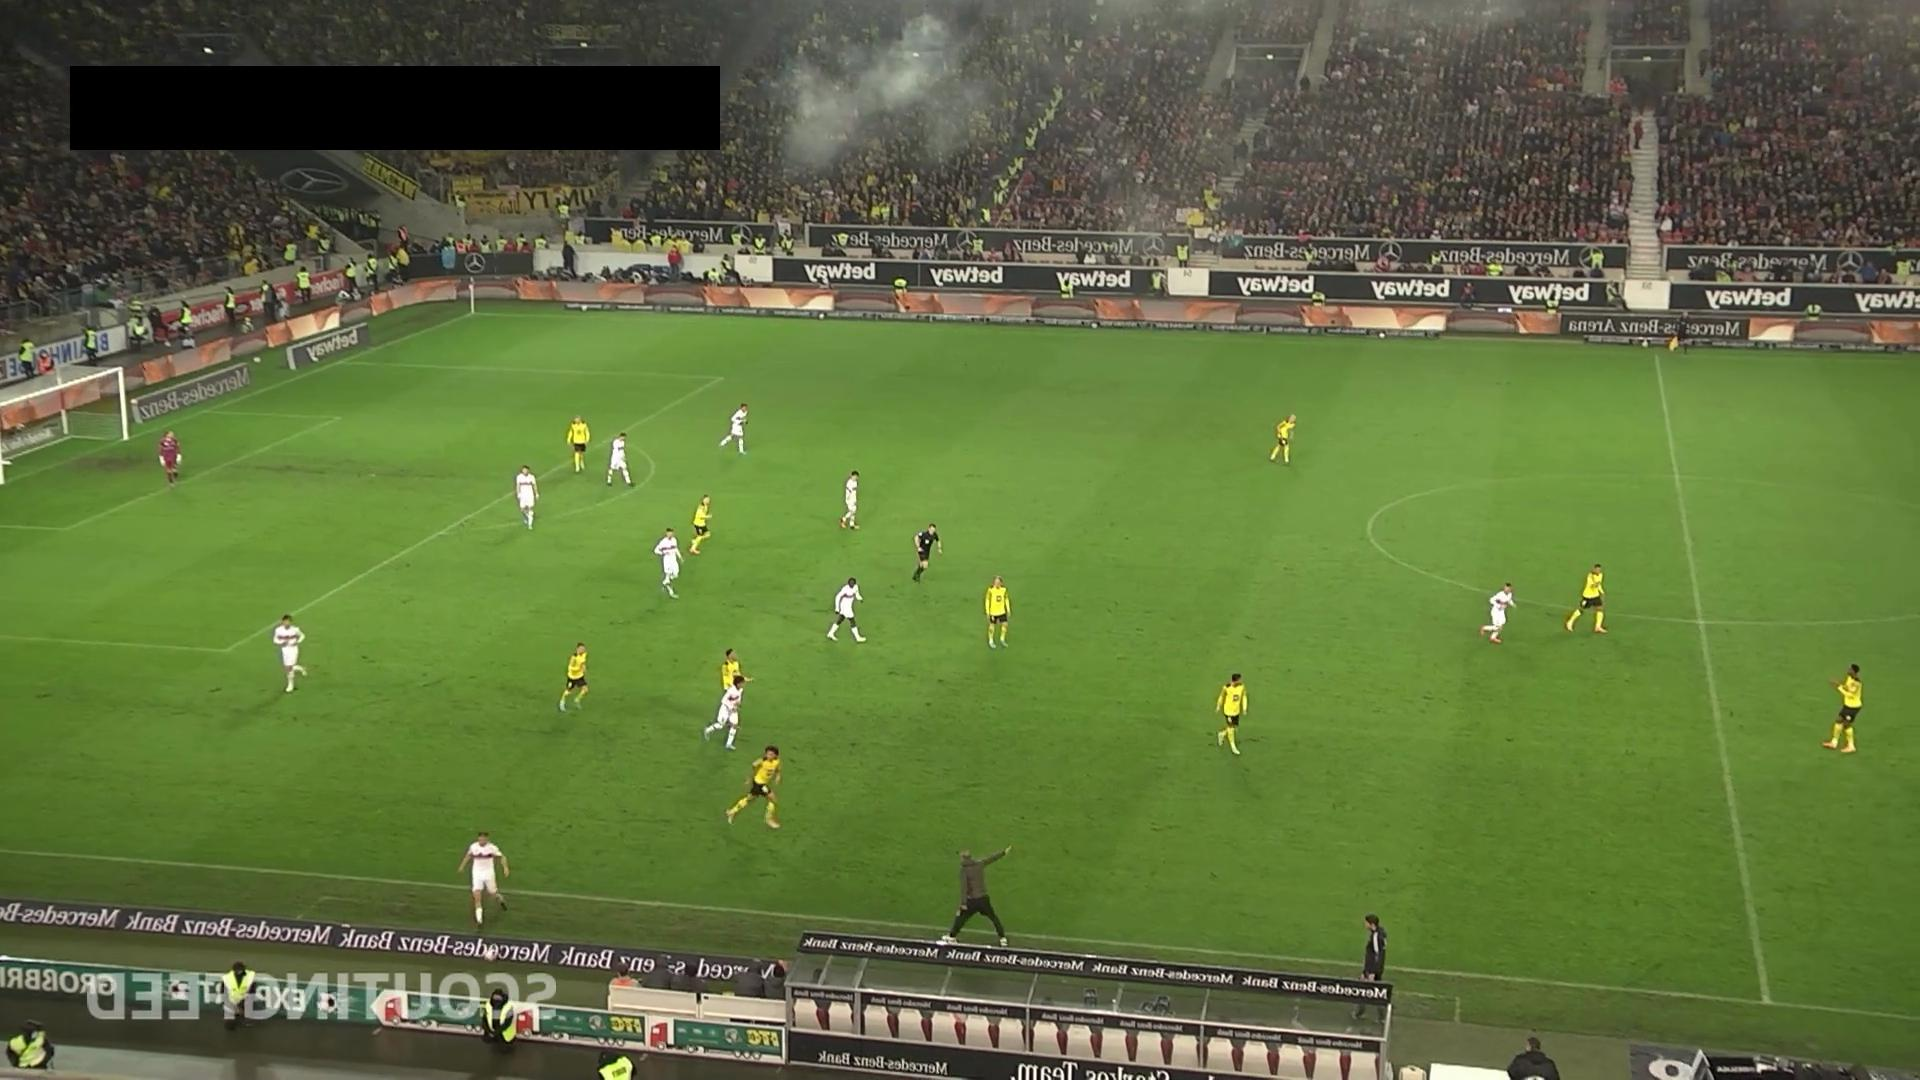goalkeeper: (158, 428, 182, 486)
player: (456, 831, 508, 933), (724, 744, 782, 829), (1821, 662, 1863, 753), (701, 674, 751, 750), (1564, 563, 1609, 634), (1213, 672, 1249, 755), (273, 613, 307, 693), (826, 576, 866, 643), (558, 641, 590, 714), (1480, 581, 1517, 644), (654, 526, 683, 600), (984, 575, 1012, 649), (719, 402, 750, 455), (515, 464, 539, 530), (606, 431, 634, 487), (689, 493, 713, 555), (565, 415, 591, 472), (1269, 413, 1297, 464), (840, 470, 860, 530), (719, 648, 742, 692)
referee: (911, 522, 943, 583), (1668, 309, 1689, 354)
